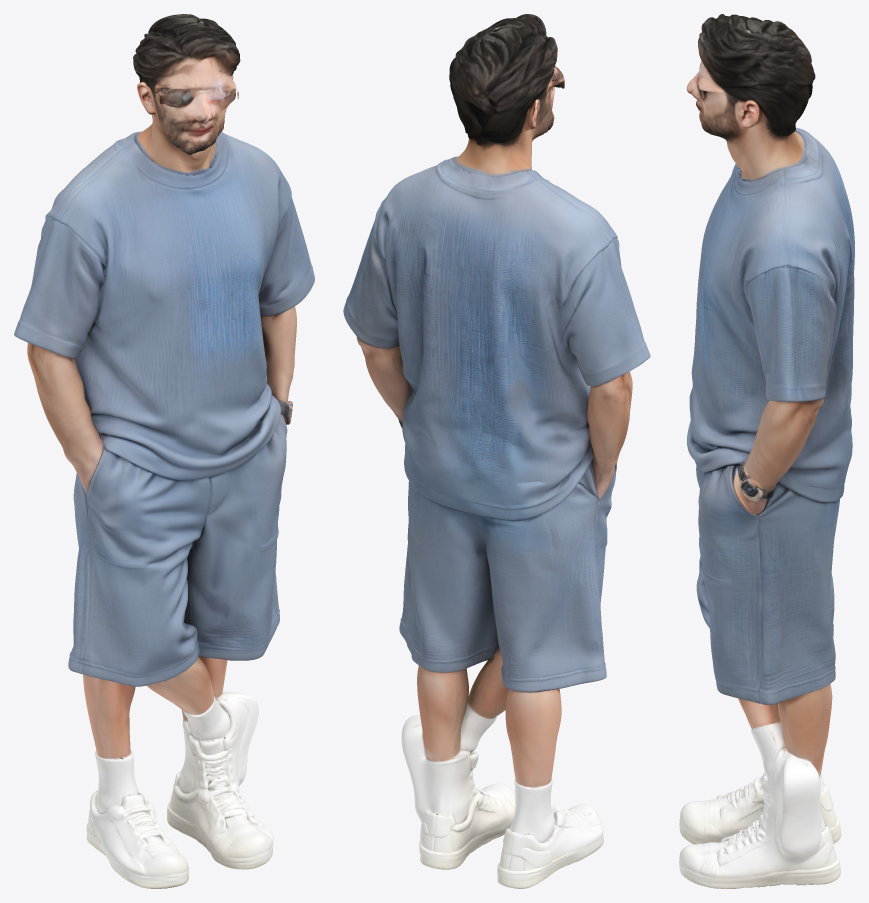
3 renders of one model, left to right at view 1: azimuth 30°, elevation 25°; view 2: azimuth 150°, elevation 25°; view 3: azimuth 270°, elevation 25°, orthographic. The views are drawn at different scales.
Parts seen in each view (by area): view 1: model; view 2: model; view 3: model.
Boxes of the visible parts, left/top/right/bottom form: model: left=14, top=14, right=314, bottom=888; model: left=343, top=14, right=650, bottom=888; model: left=679, top=14, right=854, bottom=888.
Size of the model in its own units: 0.7202 by 1.9 by 0.3593.
Materials: 1 (1 with a texture image).
